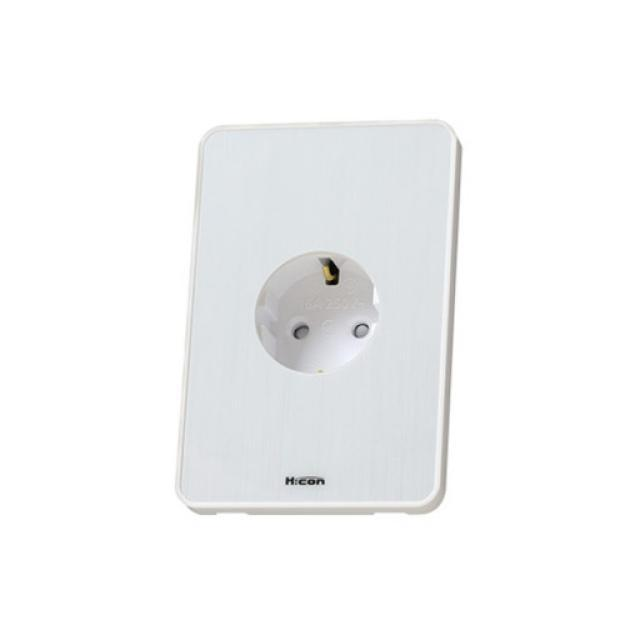typeb: (128, 83, 498, 552)
